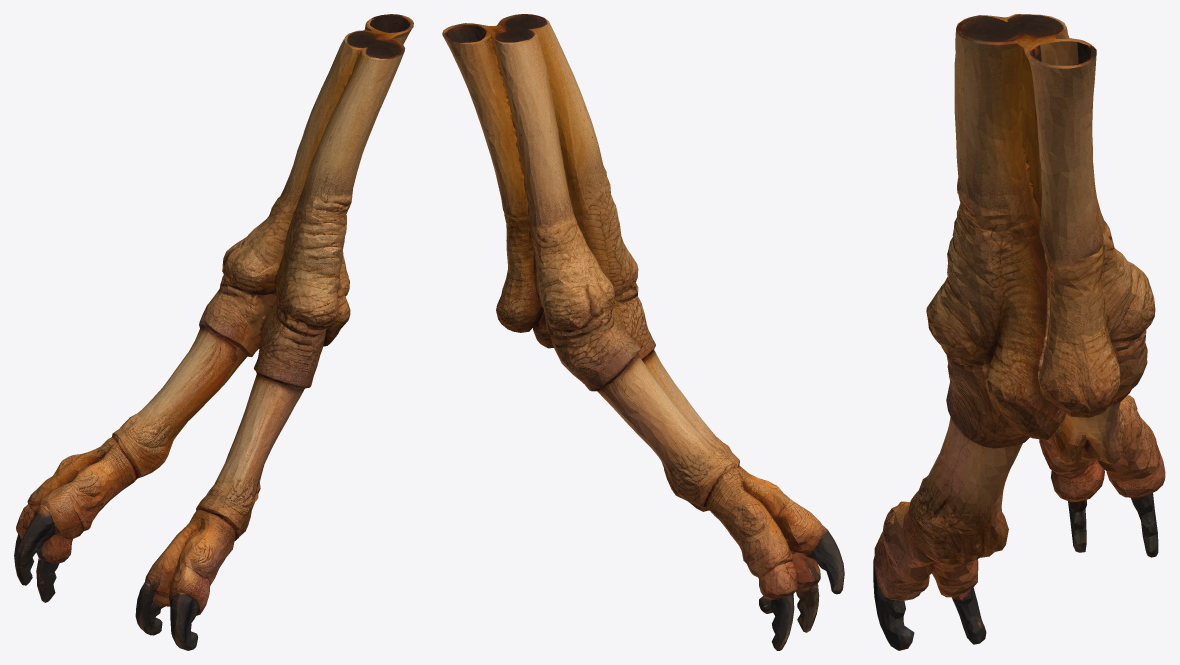
The model's file is foot (81).glb.
The picture shows the model from 3 angles, left to right: view 1: azimuth 30°, elevation 25°; view 2: azimuth 150°, elevation 25°; view 3: azimuth 270°, elevation 25°; orthographic projection. The views are drawn at different scales.
Visible parts, largest first — view 1: Hy21_Mesh.obj; view 2: Hy21_Mesh.obj; view 3: Hy21_Mesh.obj.
Part boxes in pixels (x1=…): Hy21_Mesh.obj: x1=14, y1=14, x2=413, y2=650; Hy21_Mesh.obj: x1=442, y1=14, x2=844, y2=650; Hy21_Mesh.obj: x1=873, y1=14, x2=1165, y2=650.
Size of the model in its own units: 1.53 by 1.96 by 0.6604.
Materials: 1 (1 with a texture image).
